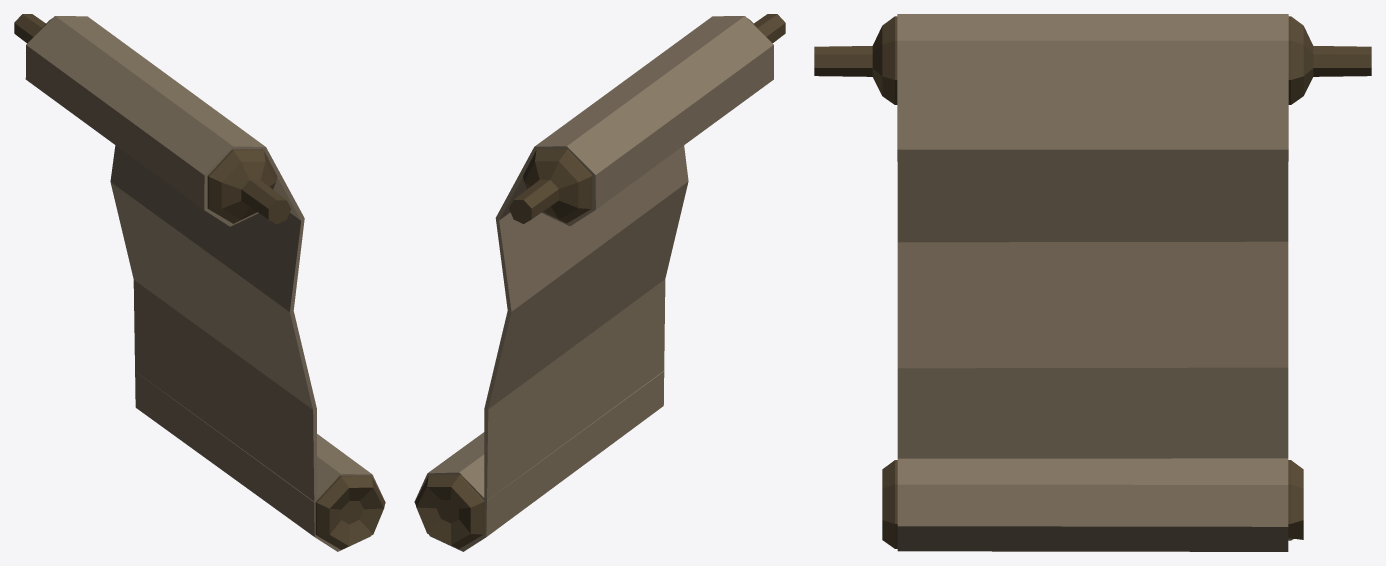
Rendered from Manuscrit.fbx.
The picture shows the model from 3 angles, left to right: view 1: azimuth 30°, elevation 25°; view 2: azimuth 150°, elevation 25°; view 3: azimuth 270°, elevation 25°; orthographic projection. The views are drawn at different scales.
Parts seen in each view (by area): view 1: Manuscrit; view 2: Manuscrit; view 3: Manuscrit.
Boxes of the visible parts, <box> form: Manuscrit: <box>14,14,385,551</box>; Manuscrit: <box>414,14,785,551</box>; Manuscrit: <box>814,14,1371,551</box>.
Bounding box in the file's own units: 8.29 × 18.8 × 20.08.
